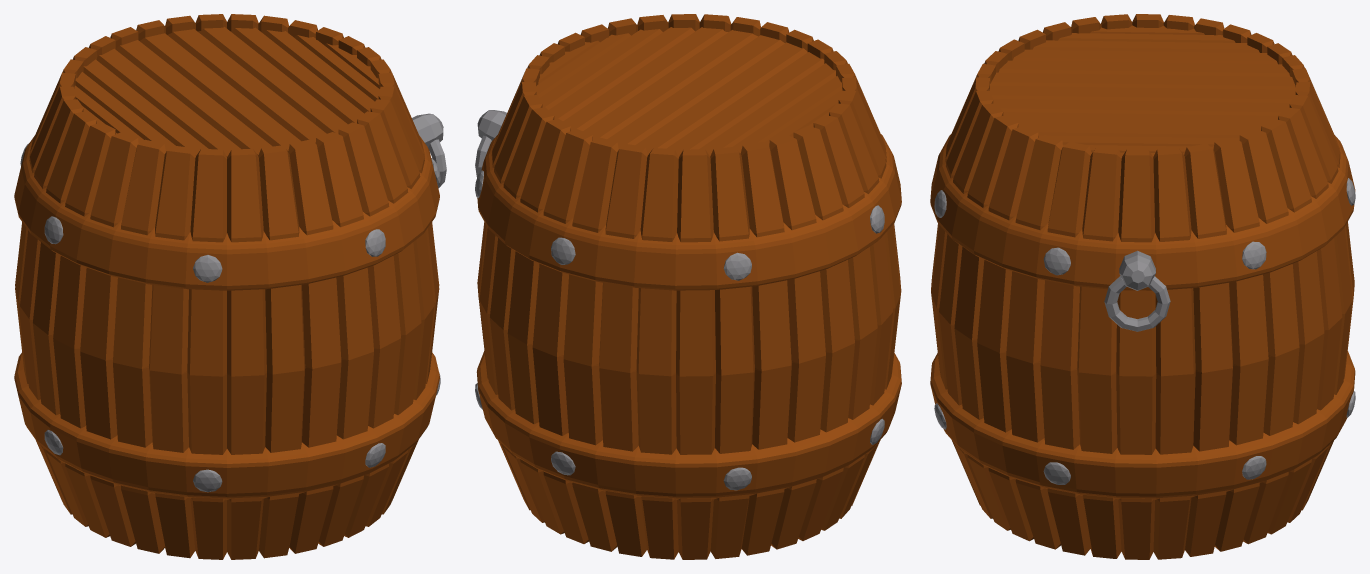
File: barrel.fbx
3 views of the same model, side by side, from view 1: azimuth 30°, elevation 25°; view 2: azimuth 150°, elevation 25°; view 3: azimuth 270°, elevation 25° (orthographic).
Parts seen in each view (by area): view 1: Cylinder, Cylinder.001, Cylinder.003, Icosphere, Cylinder.002; view 2: Cylinder, Cylinder.001, Cylinder.003, Icosphere, Cylinder.002; view 3: Cylinder, Cylinder.001, Cylinder.003, Icosphere, Torus, Cylinder.002.
Part boxes in pixels (x1,y1,x2,y2): Cylinder: (15, 14, 439, 559); Cylinder.001: (14, 135, 439, 499); Cylinder.003: (74, 27, 379, 156); Icosphere: (20, 143, 440, 492); Cylinder.002: (412, 113, 443, 147); Cylinder: (477, 14, 901, 559); Cylinder.001: (476, 134, 901, 499); Cylinder.003: (536, 27, 842, 156); Icosphere: (475, 170, 884, 490); Cylinder.002: (477, 110, 506, 140); Cylinder: (931, 14, 1354, 559); Cylinder.001: (930, 134, 1355, 499); Cylinder.003: (989, 25, 1295, 156); Icosphere: (934, 178, 1355, 484); Torus: (1104, 276, 1170, 331); Cylinder.002: (1119, 250, 1155, 290).
Size of the model in its own units: 278 by 270 by 258.
